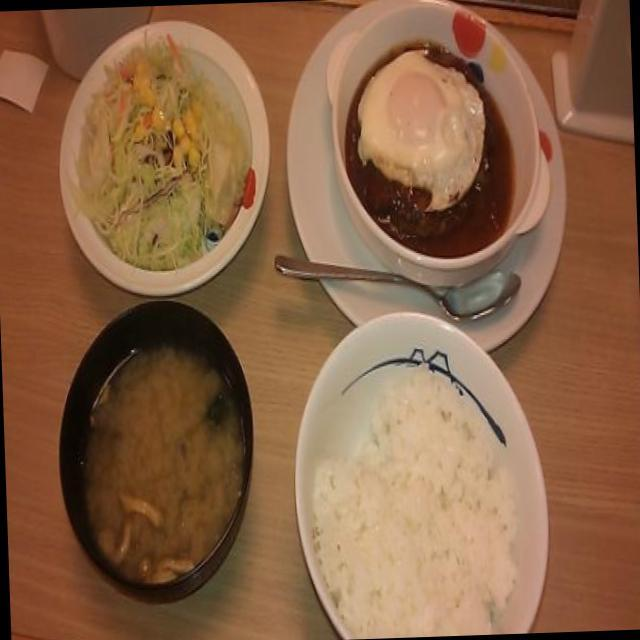Green Salad: (84, 42, 244, 254)
Rice: (314, 350, 522, 636)
